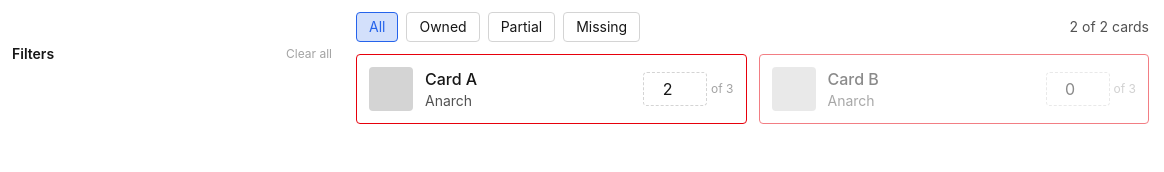
it: SetCardGrid › the "Partial" filter shows only cards owned but short of their printed quantity
Step 1. Click the button "Partial" → (521, 27), box x1=488 y1=12 x2=555 y2=42
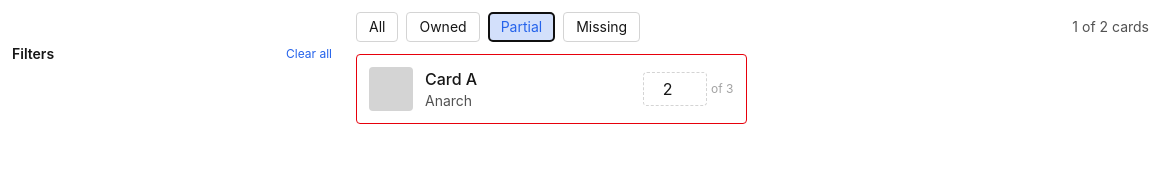
Expected: the text "Card A" is shown, x1=425 y1=69 x2=477 y2=89
Expected: the text "Card B" is gone
